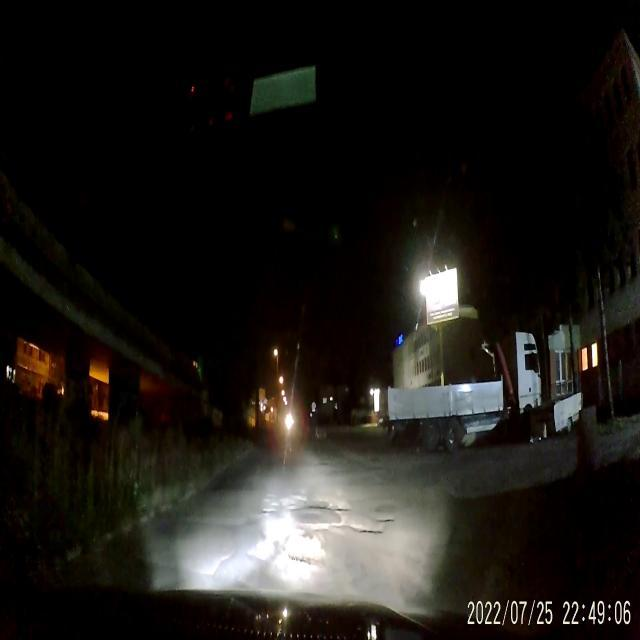Manhole: (298, 505, 320, 525), (375, 498, 398, 516)
Pothole: (288, 534, 326, 572), (351, 522, 384, 540), (322, 500, 345, 514), (258, 508, 282, 518)
